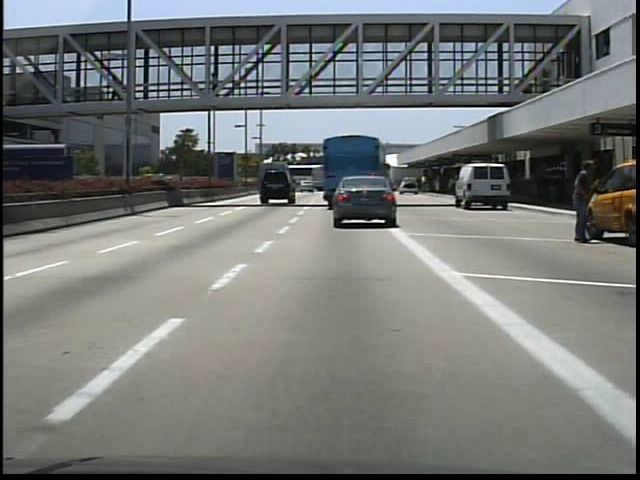person: (566, 153, 598, 247), (529, 166, 550, 207), (207, 70, 224, 104), (110, 73, 126, 102)
